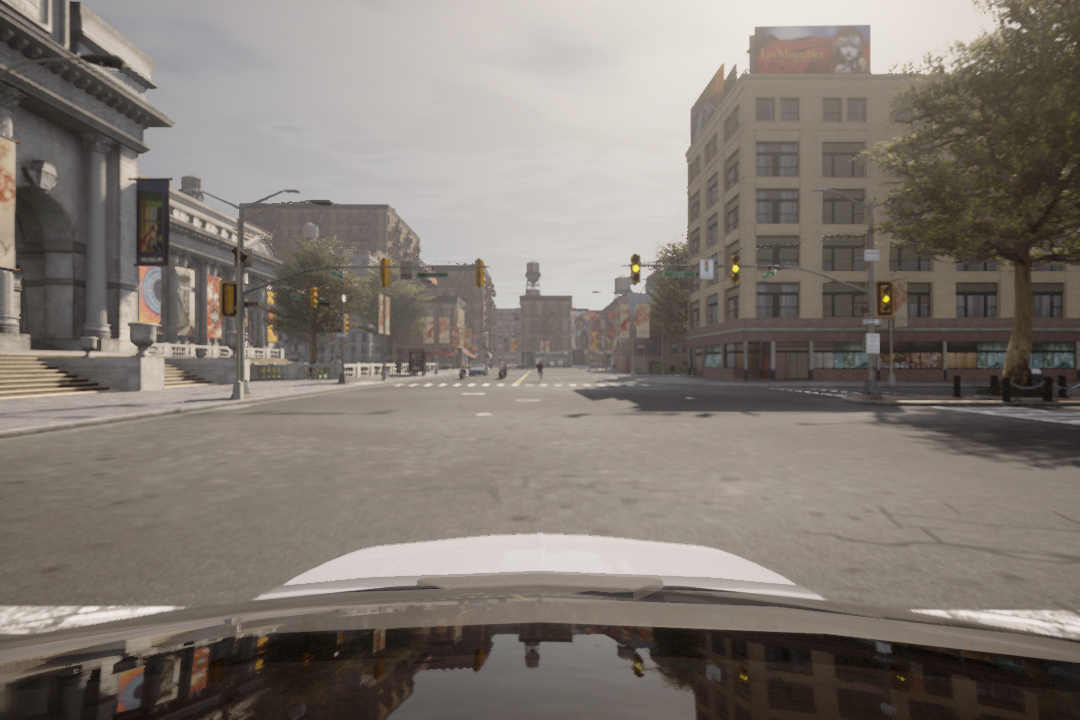TrafficLight: (876, 280, 891, 315), (626, 254, 642, 285), (731, 254, 741, 289)
